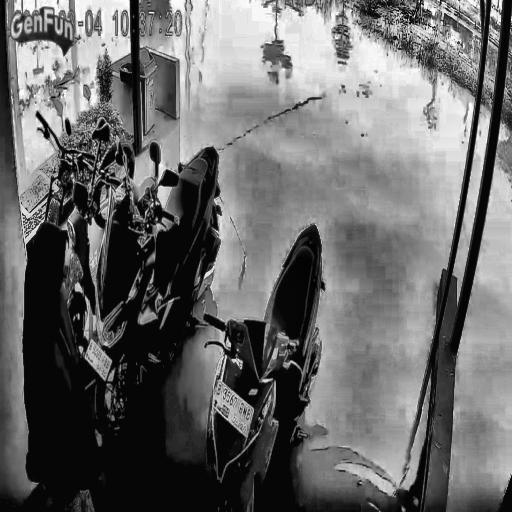banjir: (174, 0, 472, 483), (449, 157, 512, 511), (166, 328, 220, 462)
